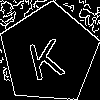K: (24, 29, 66, 81)
